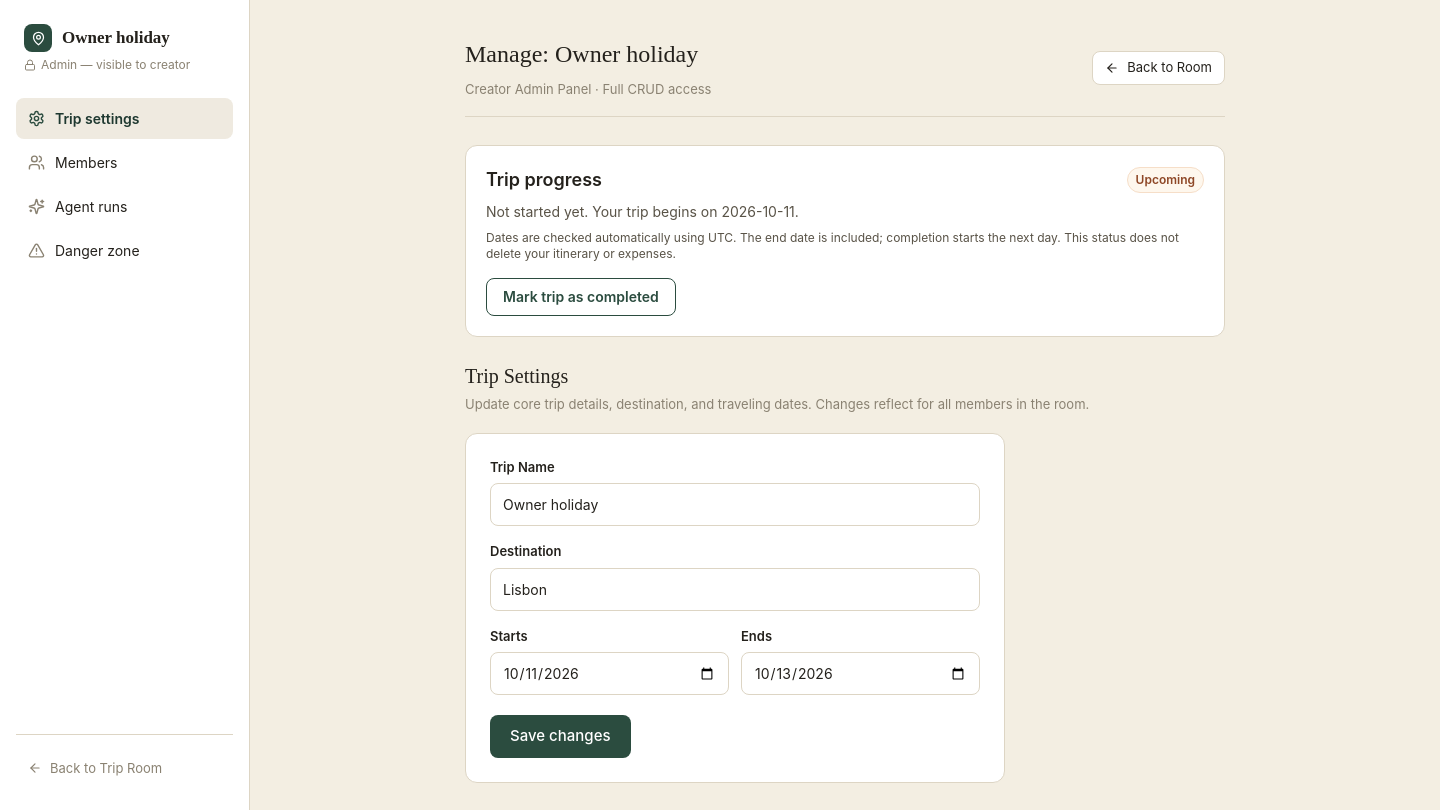
Test: owner trip completion › never reports a failed legacy completion action as successful
Click the button "Danger zone" at {"x": 124, "y": 250}, box [16,230,233,271]
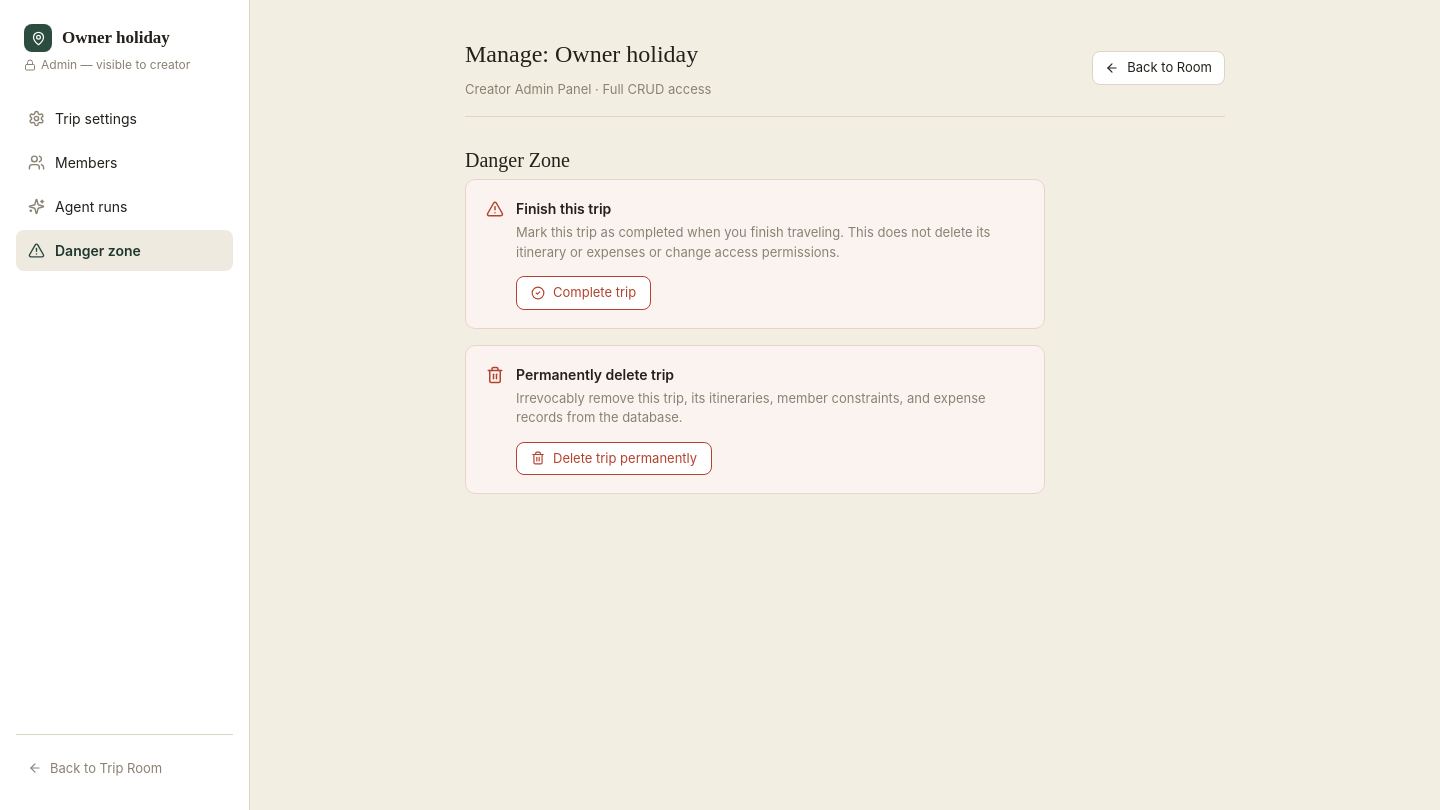
Click the button "Complete trip" at {"x": 584, "y": 293}, box [516,276,651,310]
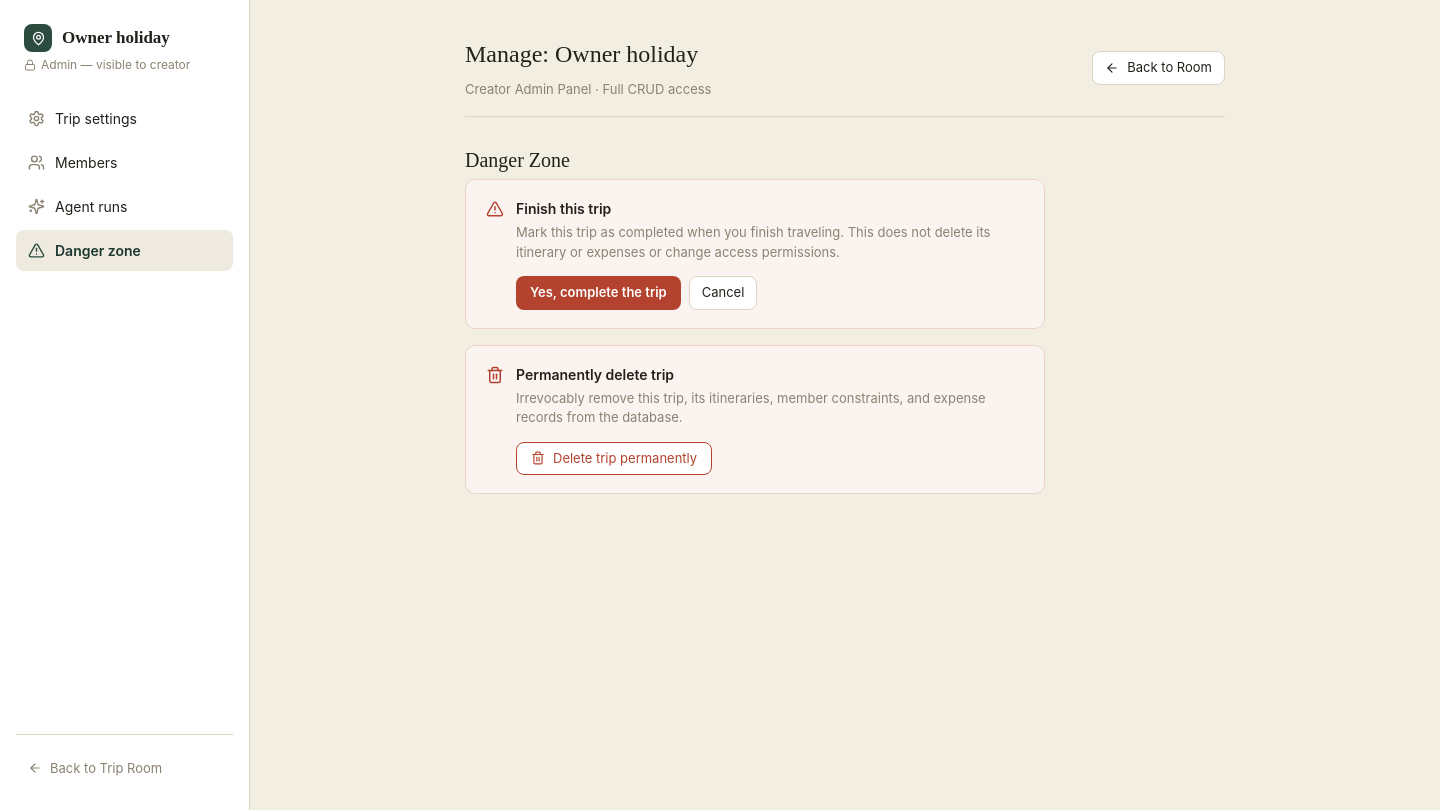
Click the button "Yes, complete the trip" at {"x": 598, "y": 293}, box [516,276,681,310]
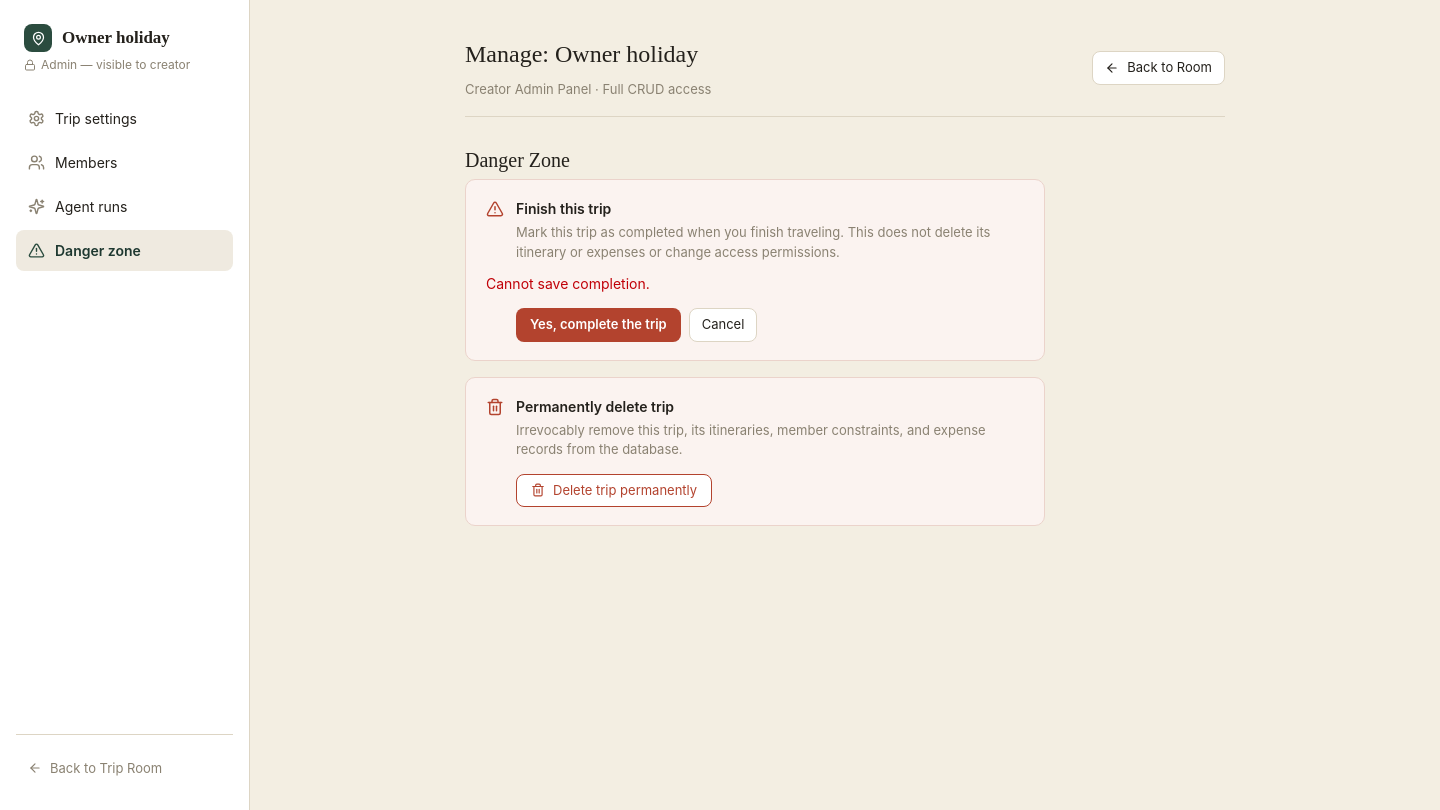
expect the button "Yes, complete the trip" is enabled: met, box [516,308,681,342]
expect the message shows "Cannot save completion": met, box [486,275,650,292]
